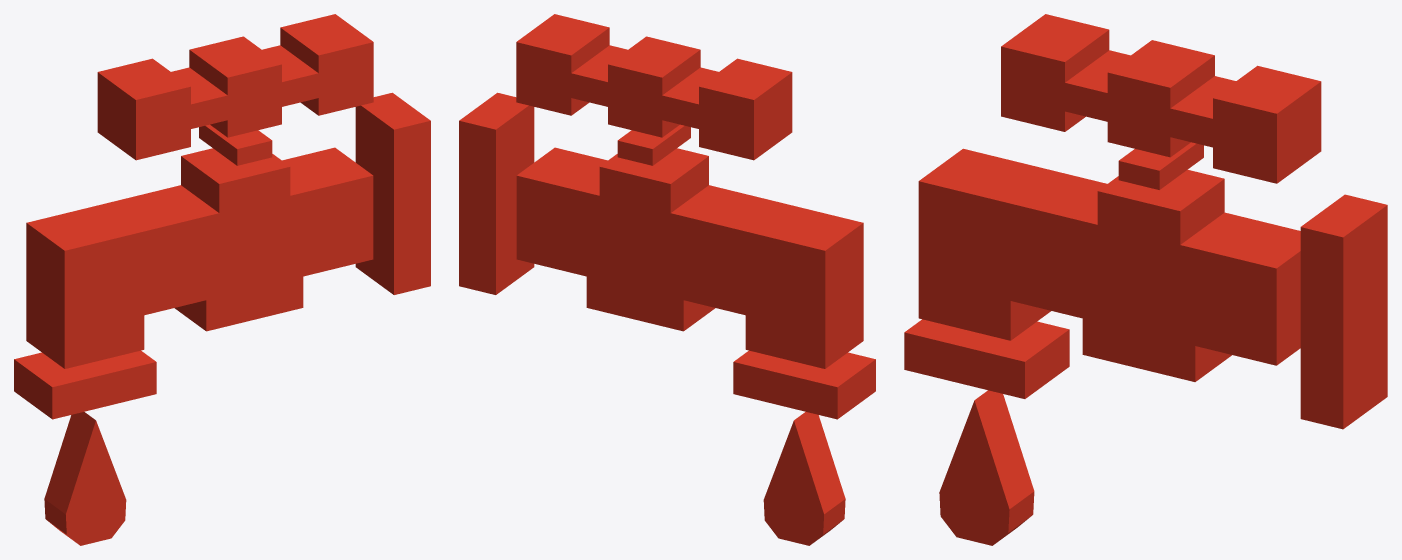
File: Icon_Faucet_02.fbx
The picture shows the model from 3 angles, left to right: view 1: azimuth 30°, elevation 25°; view 2: azimuth 150°, elevation 25°; view 3: azimuth 330°, elevation 25°; orthographic projection. The views are drawn at different scales.
Parts seen in each view (by area): view 1: Icon_Faucet_02; view 2: Icon_Faucet_02; view 3: Icon_Faucet_02.
Part boxes in pixels (x1,y1,x2,y2): Icon_Faucet_02: (14,14,430,545); Icon_Faucet_02: (459,14,875,545); Icon_Faucet_02: (904,14,1387,545).
Bounding box in the file's own units: 68.77 × 76.52 × 12.06.
